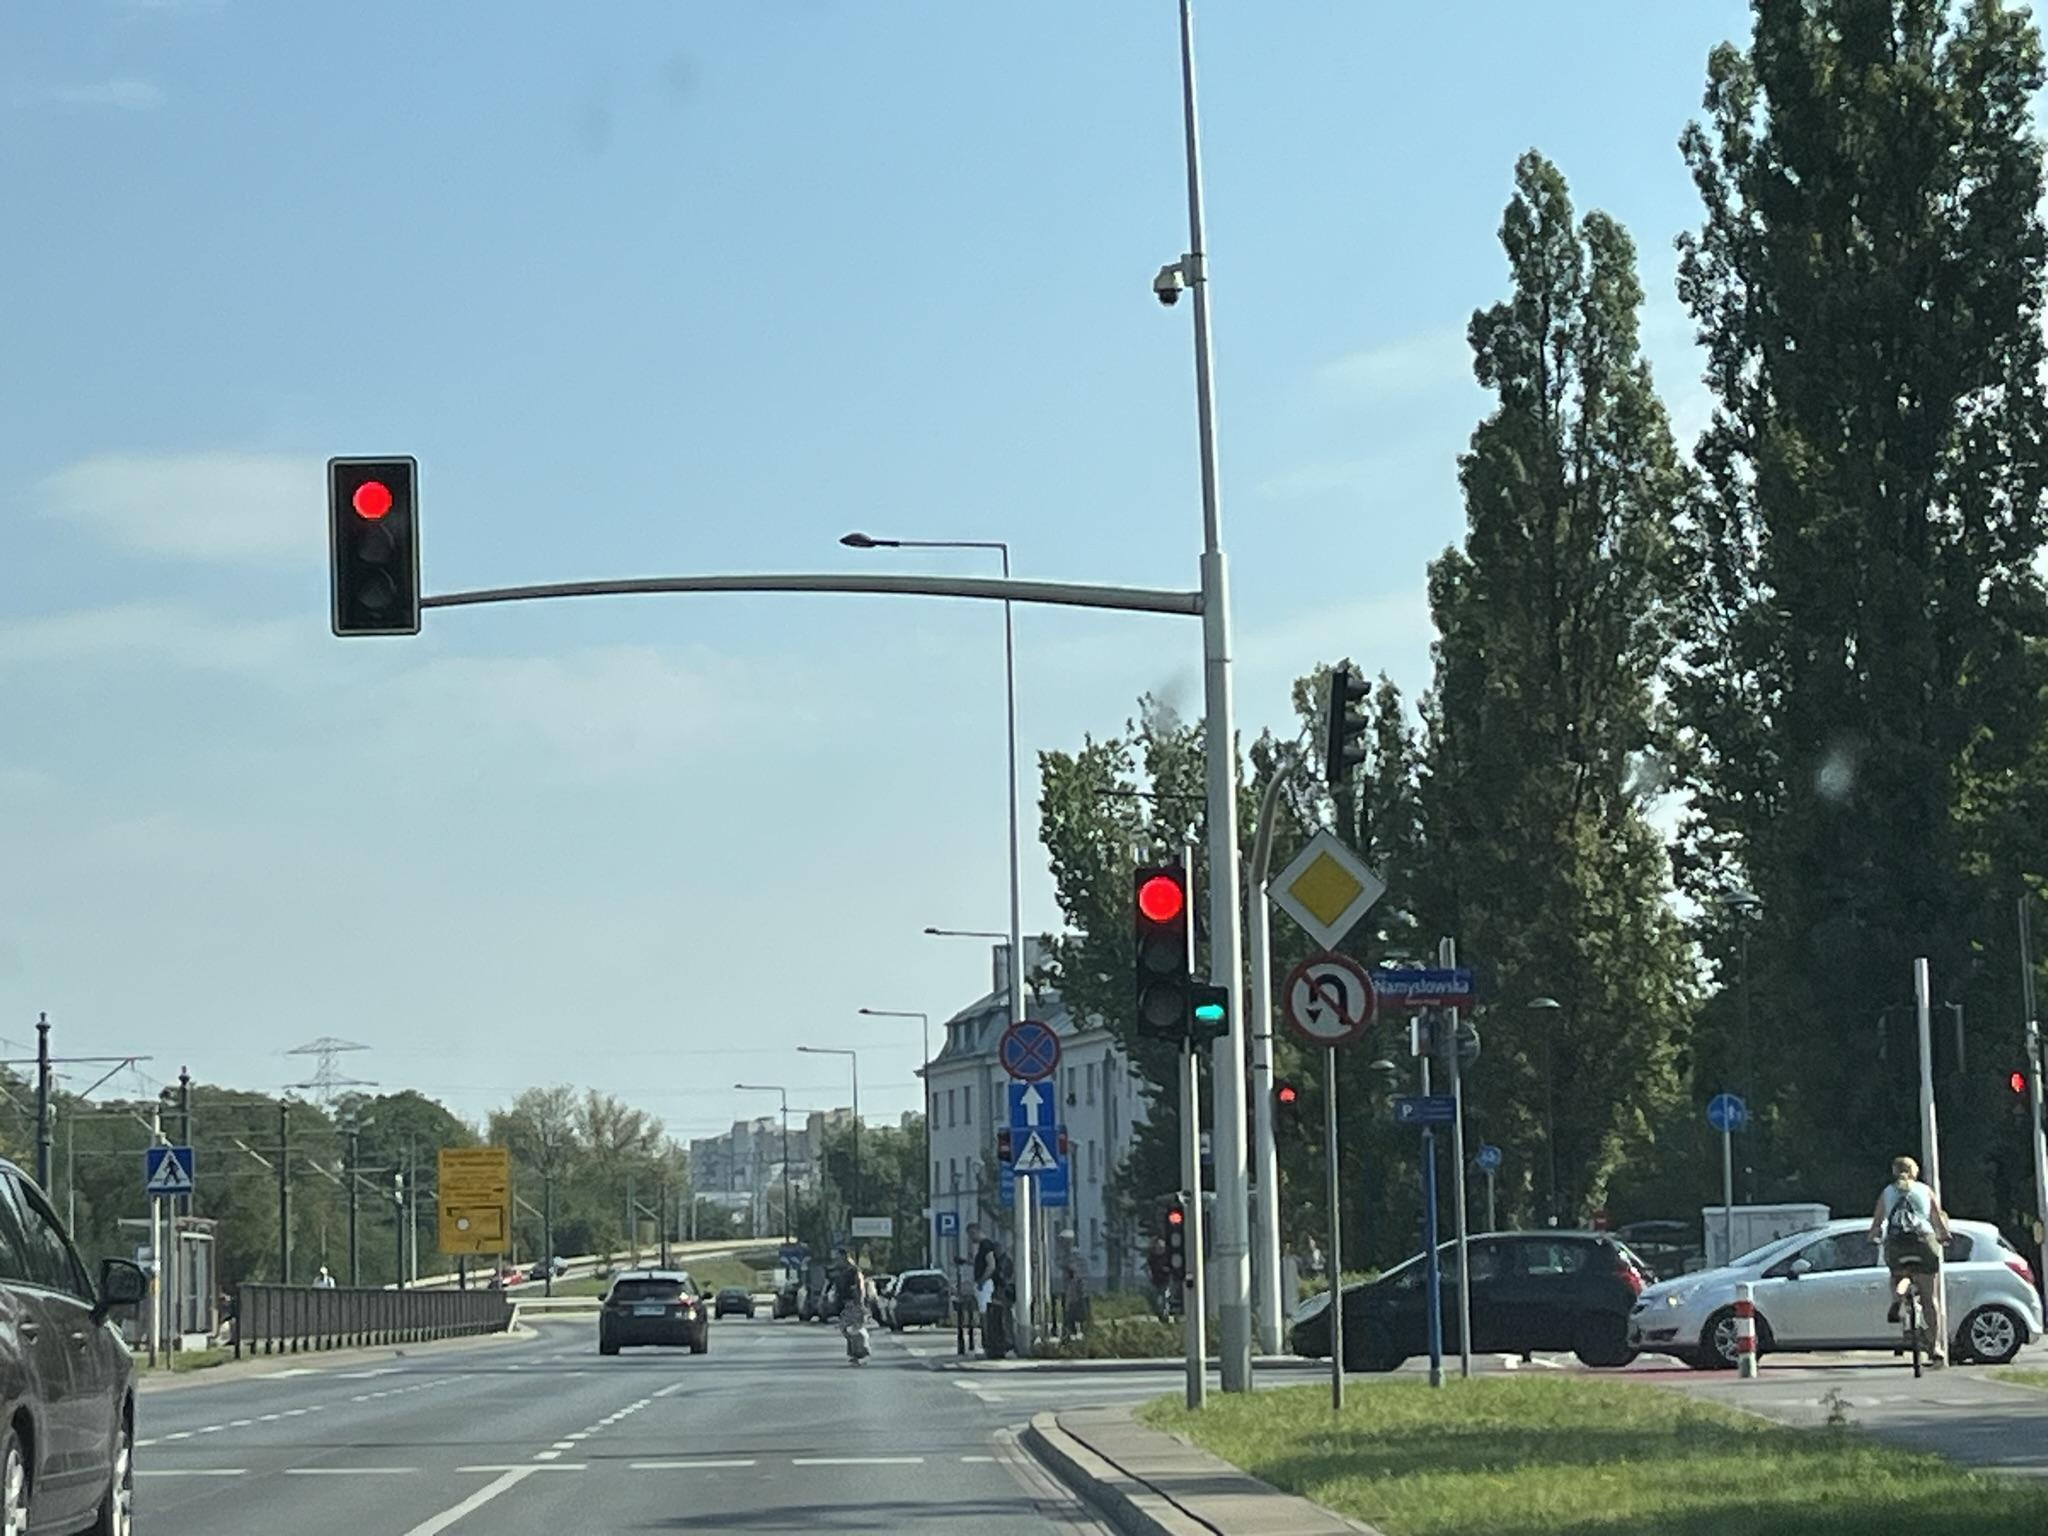direction-city: (851, 1217, 893, 1238)
information: (1266, 828, 1390, 955), (1009, 1128, 1058, 1173), (147, 1147, 192, 1192), (1009, 1084, 1053, 1128), (935, 1212, 958, 1236)
other: (437, 1147, 511, 1250)
prohibitory: (1280, 950, 1379, 1047), (1000, 1020, 1061, 1084)
